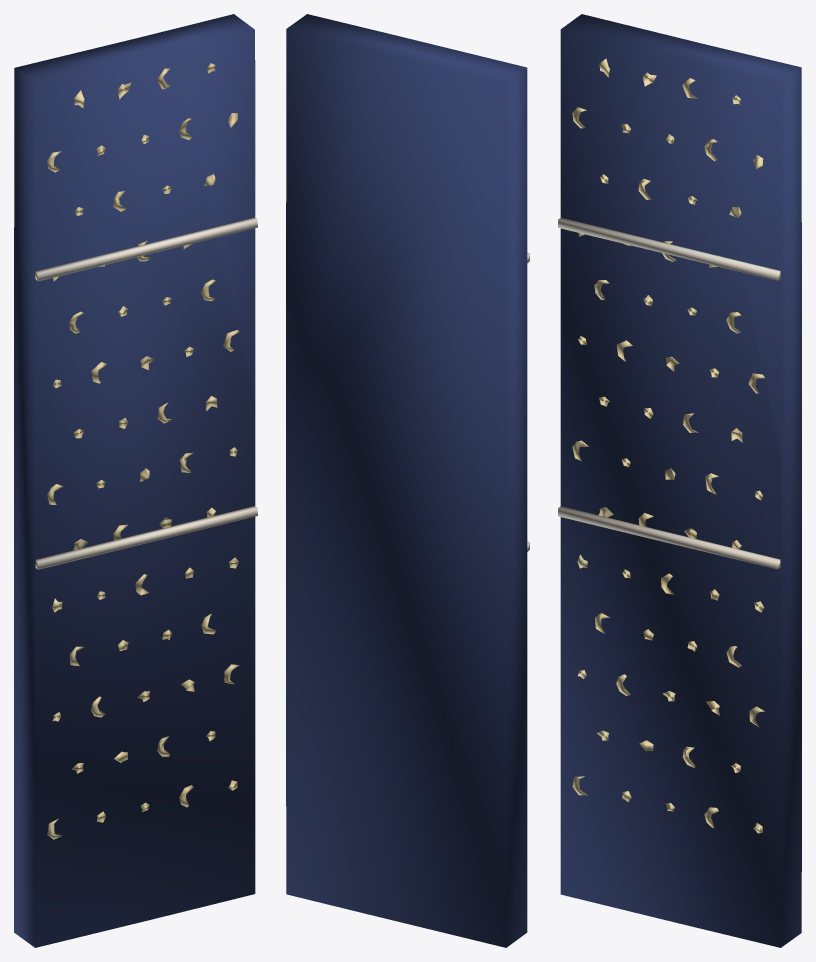
File: den_wallpaper_wall_lod2.glb
The picture shows the model from 3 angles, left to right: view 1: azimuth 30°, elevation 25°; view 2: azimuth 150°, elevation 25°; view 3: azimuth 330°, elevation 25°; orthographic projection.
Visible parts, largest first — view 1: den_wallpaper_wall.001; view 2: den_wallpaper_wall.001; view 3: den_wallpaper_wall.001.
Boxes of the visible parts, bbox=[...] form: den_wallpaper_wall.001: bbox=[14, 14, 257, 947]; den_wallpaper_wall.001: bbox=[286, 14, 529, 947]; den_wallpaper_wall.001: bbox=[558, 14, 801, 947].
Size of the model in its own units: 23.96 by 89.99 by 4.52.
